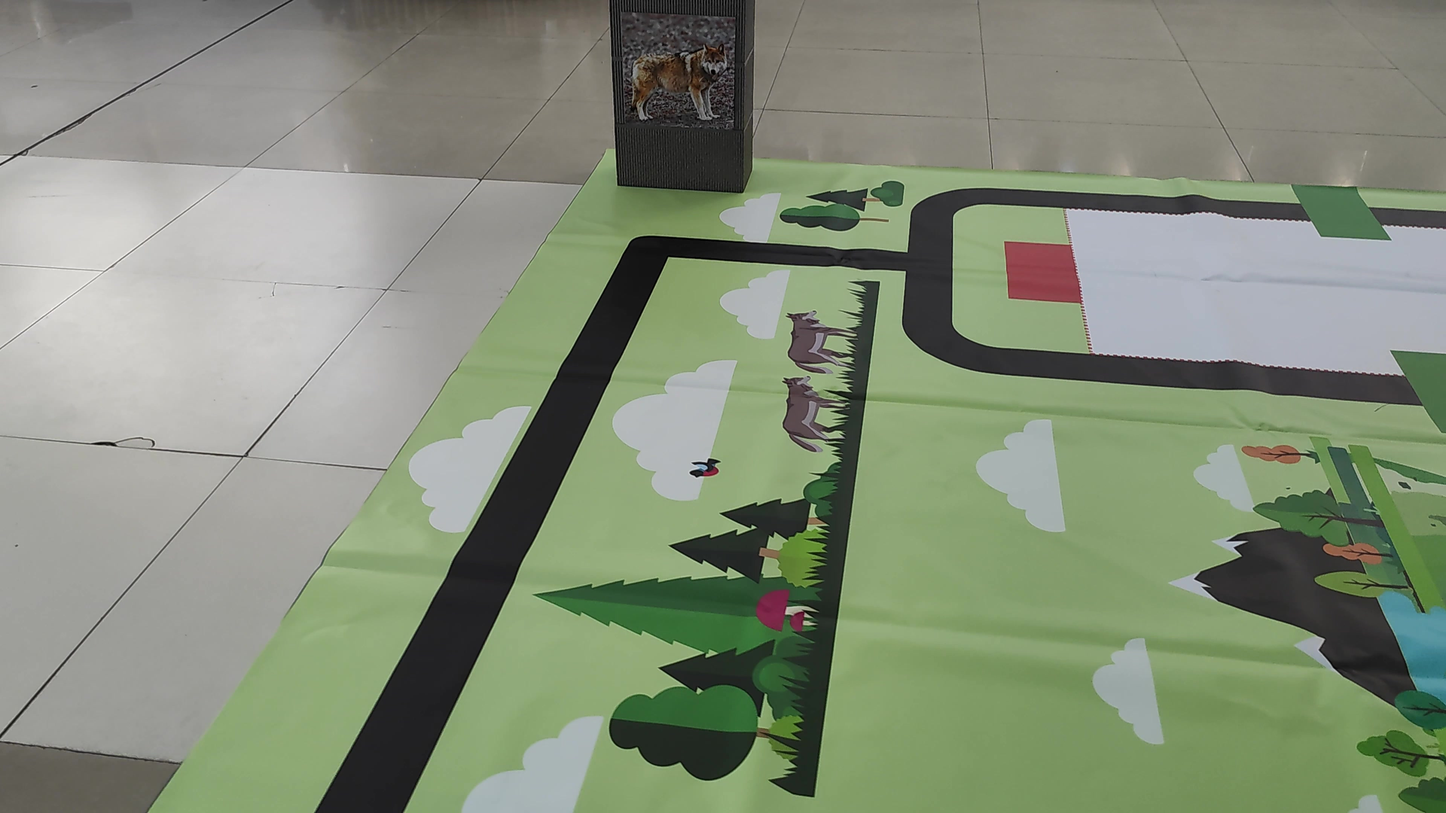wolf: (621, 15, 740, 129)
